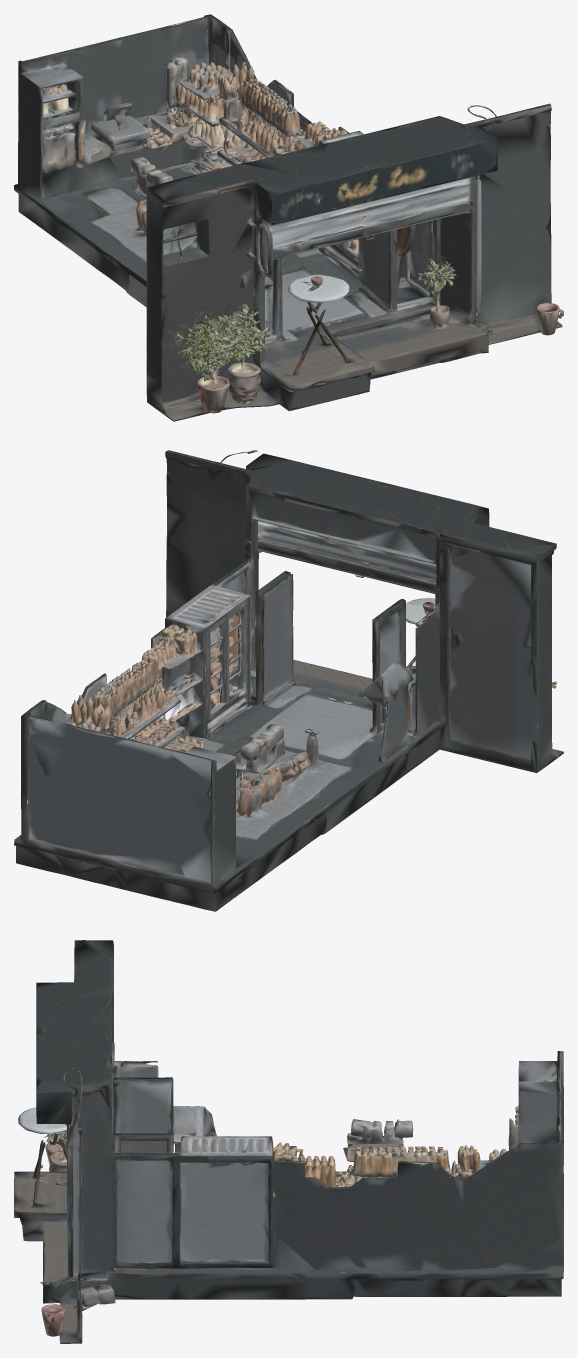
File: ostal-louis.glb
3 views of the same model, one above another, from view 1: azimuth 30°, elevation 25°; view 2: azimuth 150°, elevation 25°; view 3: azimuth 270°, elevation 25° (orthographic).
Bounding box in the file's own units: 1.55 × 0.8906 × 1.9.
Materials: 1 (1 with a texture image).
